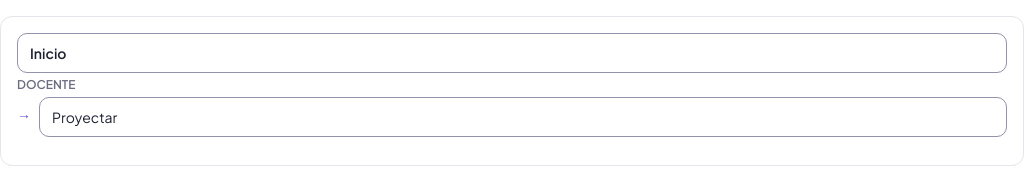
Test case: escribir seguido sin perder el cursor › un punto de una lista también
The width and height of the screenshot is (1024, 183).
In the field below "Docente": (523,117) [39,97,1007,137], type " el mapa"
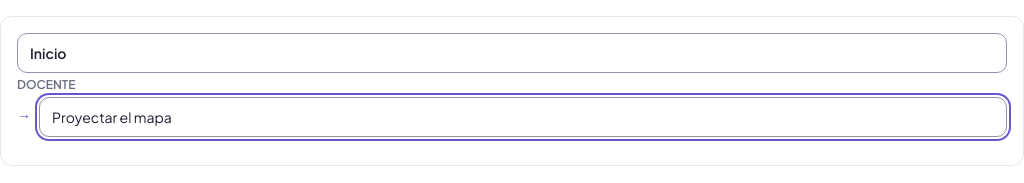
Check: the field below "Docente" holds "Proyectar el mapa", box [39,97,1007,137]
